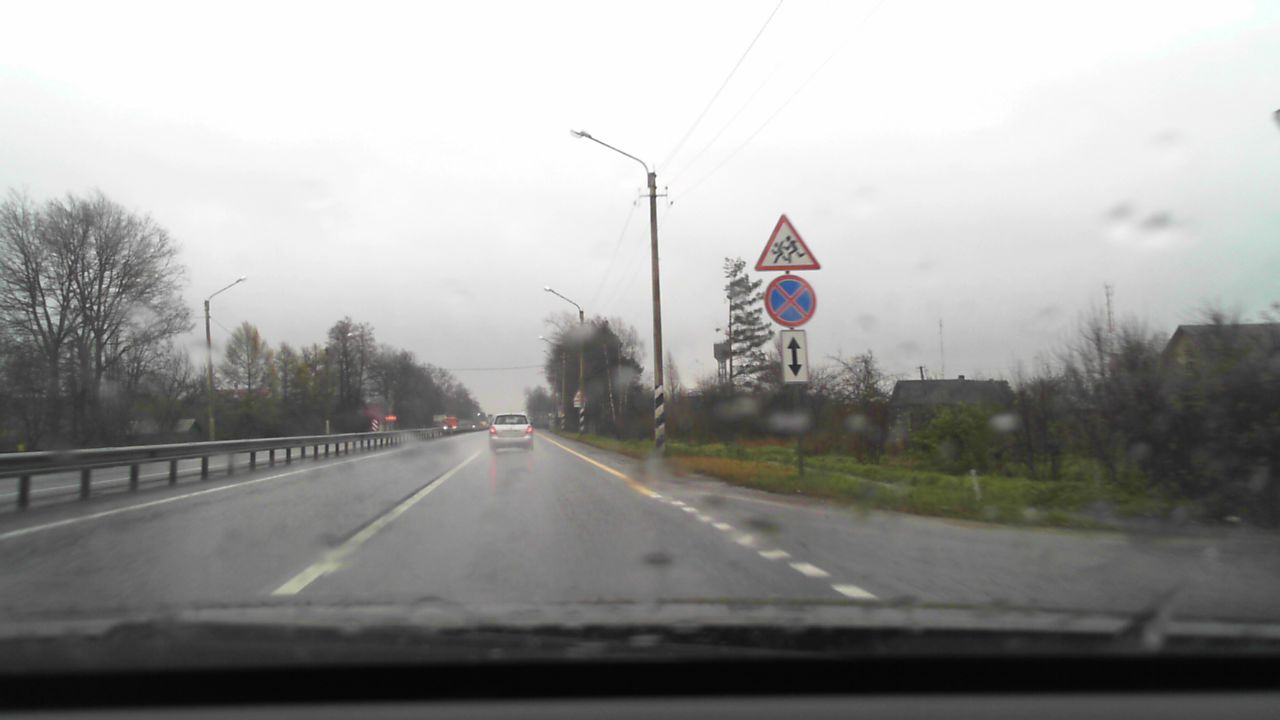No Parking: (764, 274, 815, 326)
